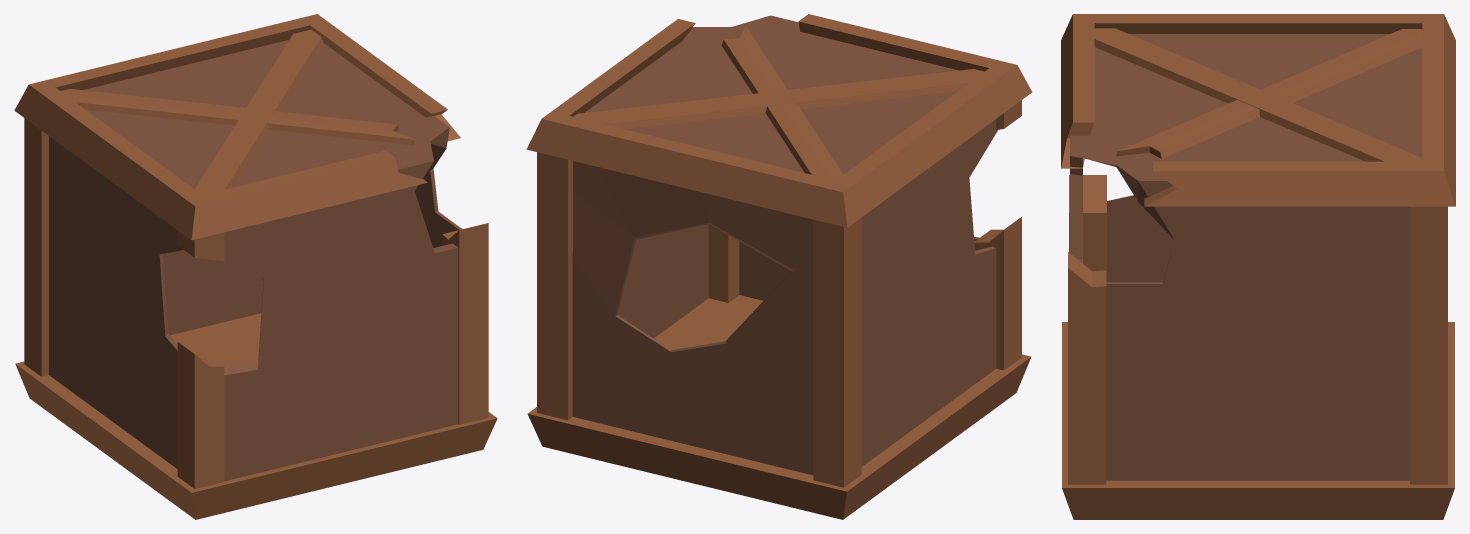
The model's file is Caixa_5_quebrada.fbx.
The picture shows the model from 3 angles, left to right: view 1: azimuth 30°, elevation 25°; view 2: azimuth 150°, elevation 25°; view 3: azimuth 270°, elevation 25°; orthographic projection. The views are drawn at different scales.
Parts seen in each view (by area): view 1: Caixa_5_quebrada; view 2: Caixa_5_quebrada; view 3: Caixa_5_quebrada.
Boxes of the visible parts, left/top/right/bottom form: Caixa_5_quebrada: left=14, top=14, right=497, bottom=519; Caixa_5_quebrada: left=526, top=14, right=1032, bottom=519; Caixa_5_quebrada: left=1061, top=14, right=1455, bottom=519.
Bounding box in the file's own units: 0.9432 × 0.9432 × 0.9214.
